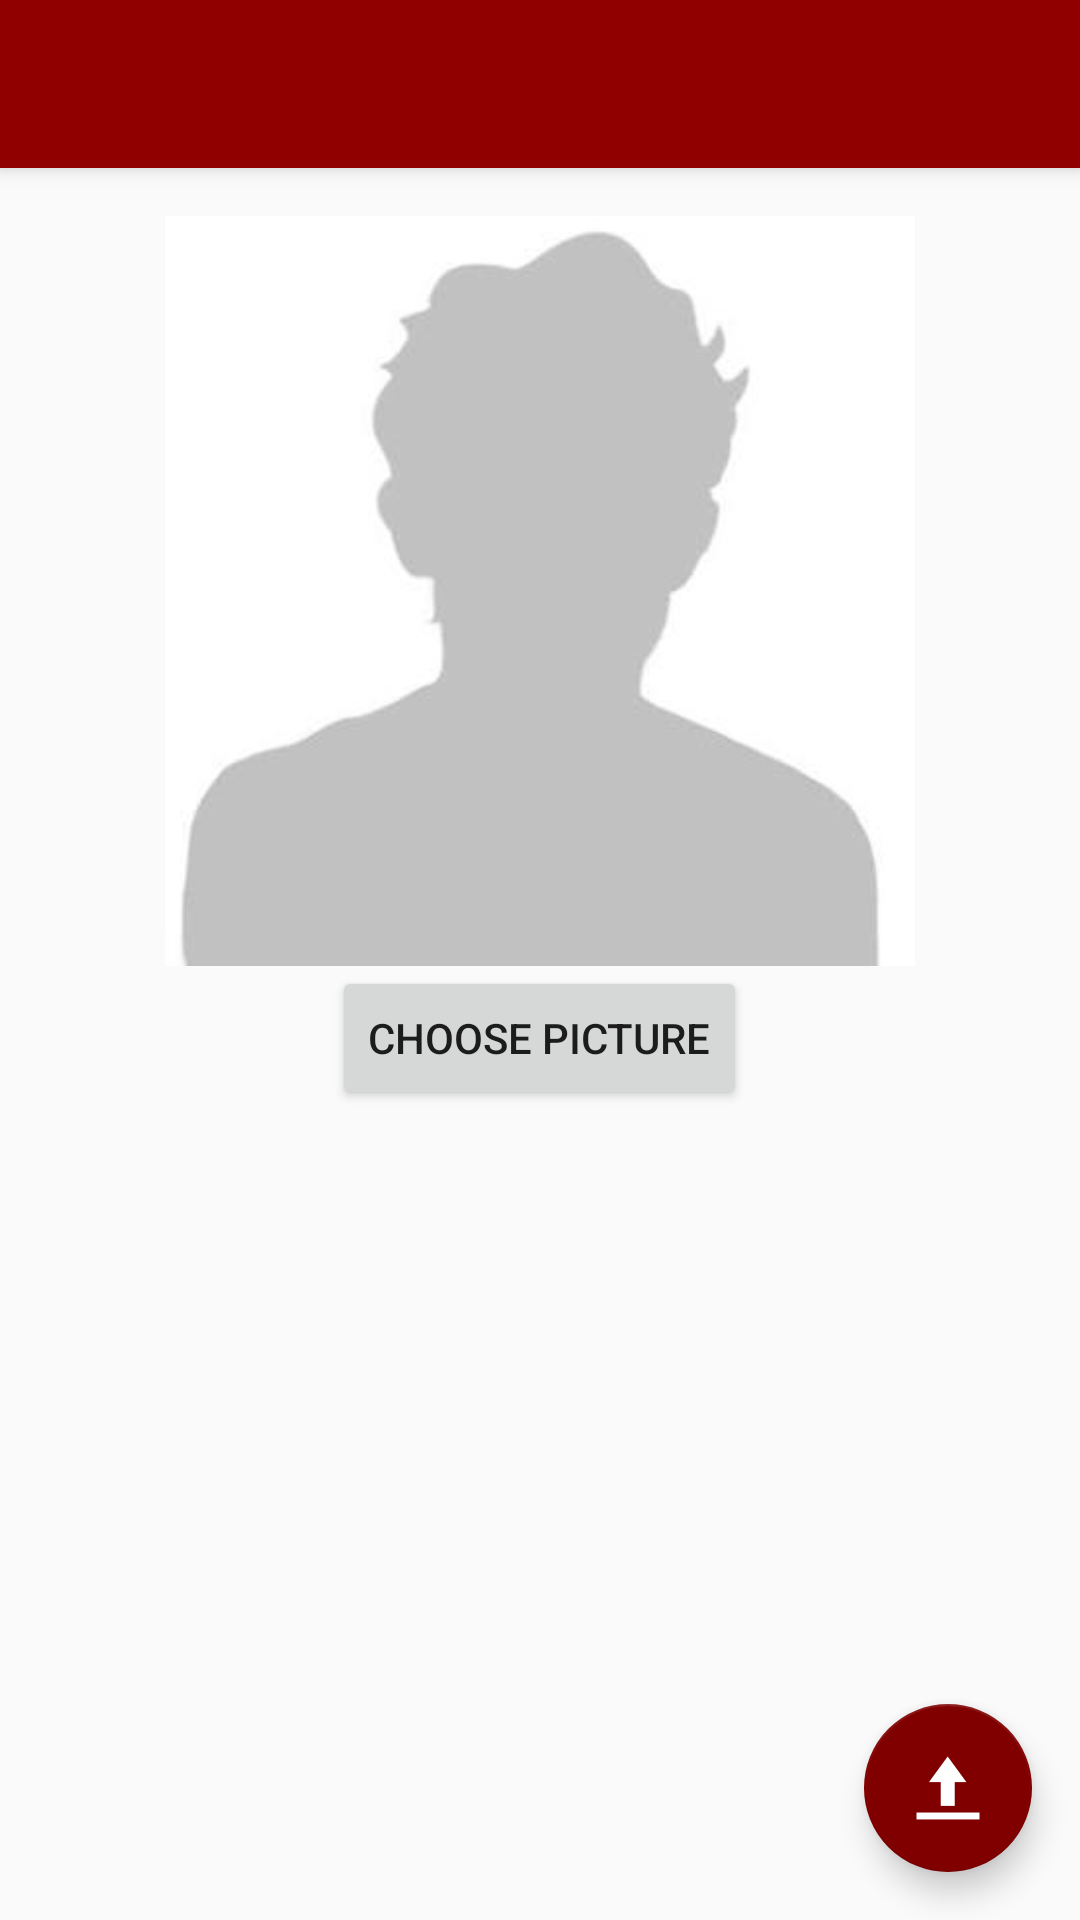

Icon bounding boxes for this 1080x1920 phone screenshot, format [x1, y1, x2, y2]:
uploadpic: [864, 1704, 1032, 1872]
